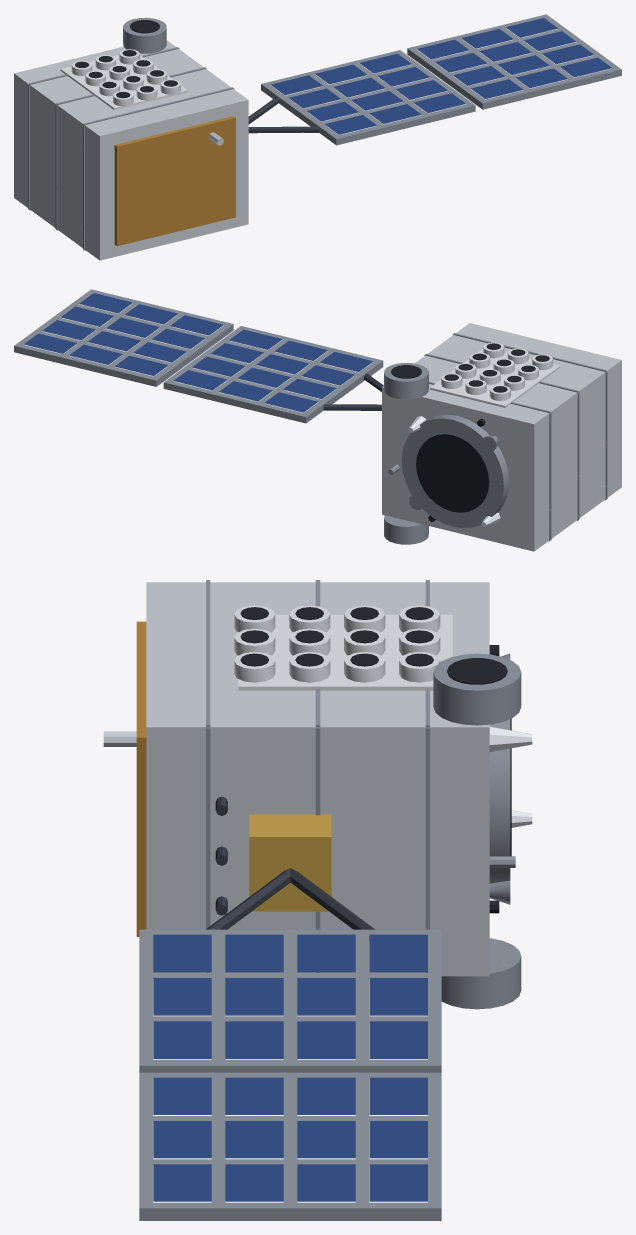
Rendered from formosat-7.glb.
The picture shows the model from 3 angles, top to bottom: view 1: azimuth 30°, elevation 25°; view 2: azimuth 150°, elevation 25°; view 3: azimuth 270°, elevation 25°; orthographic projection. The views are drawn at different scales.
Visible parts, largest first — view 1: body, solar-panel, foil; view 2: body, solar-panel; view 3: body, solar-panel, foil.
Part boxes in pixels (<box>): body: <box>14,14,621,260</box>; solar-panel: <box>28,18,612,250</box>; foil: <box>114,116,235,246</box>; body: <box>14,289,621,551</box>; solar-panel: <box>24,293,607,541</box>; body: <box>103,582,532,1220</box>; solar-panel: <box>153,580,429,1201</box>; foil: <box>136,621,331,936</box>.
Size of the model in its own units: 4.38 by 1.29 by 1.56.
